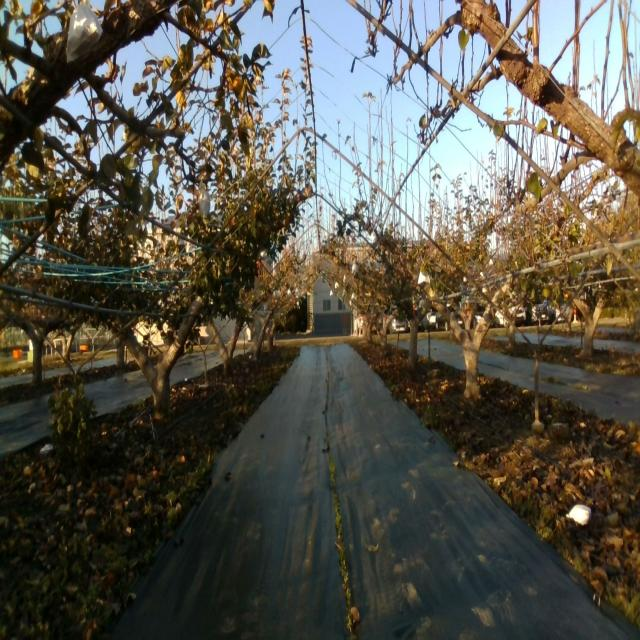pearbags: (65, 1, 105, 62), (198, 187, 210, 220)
